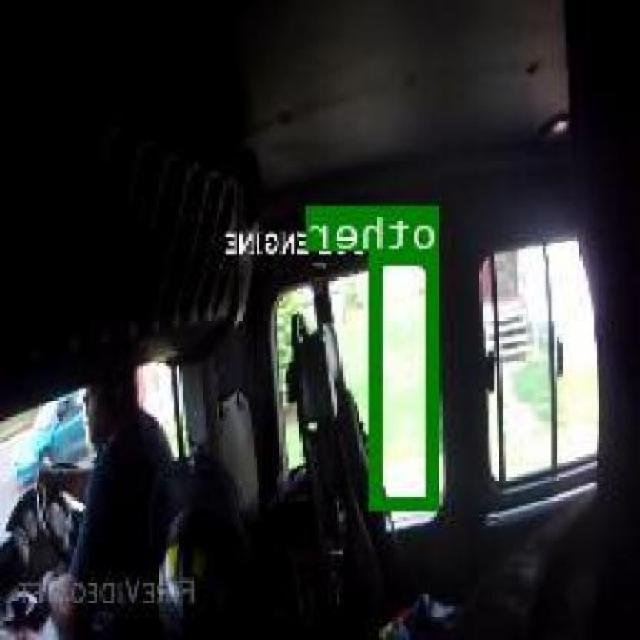other: (374, 249, 442, 508)
